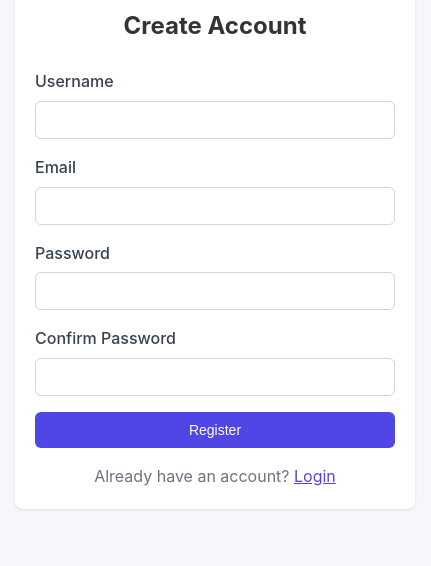
Test case: Register Component › validates password match
In the field below "Username": coordinates (215, 120) [35,101,395,139], type "testuser"
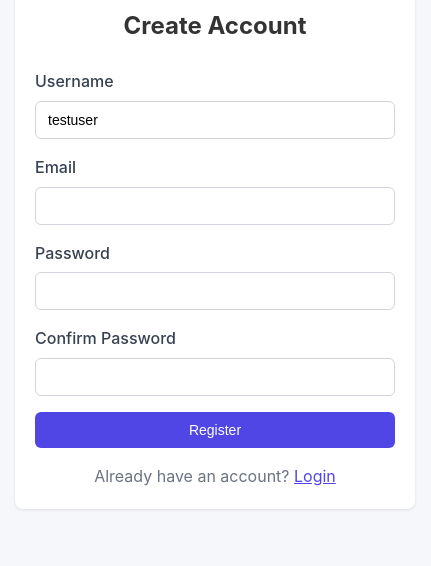
In the field below "Email": coordinates (215, 206) [35,187,395,225], type "test@example.com"
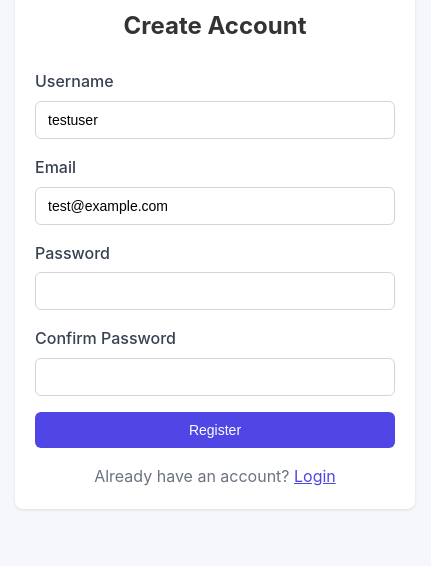
In the 1st password field: coordinates (215, 291) [35,272,395,310], type "password123"
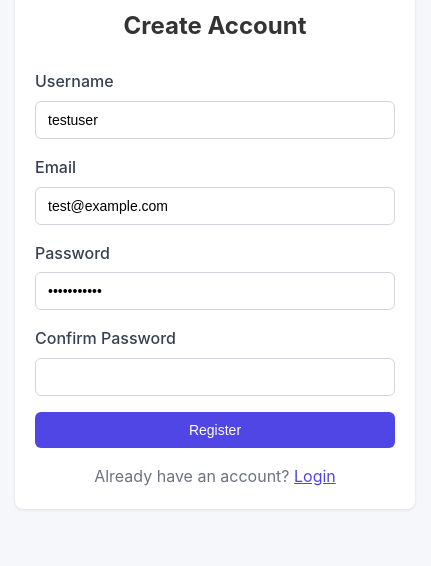
In the password field below "Confirm Password": coordinates (215, 377) [35,358,395,396], type "different"
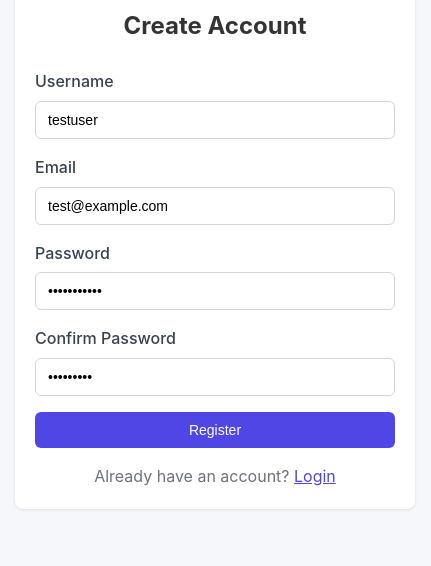
Click the button "Register": coordinates (215, 430) [35,412,395,448]
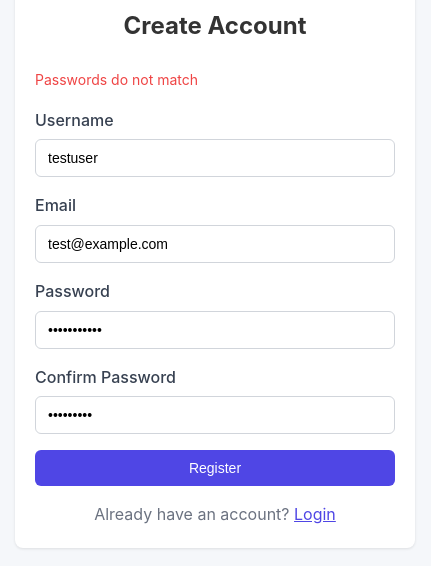
Result: the text "Passwords do not match" is shown at [35,71,198,88]
